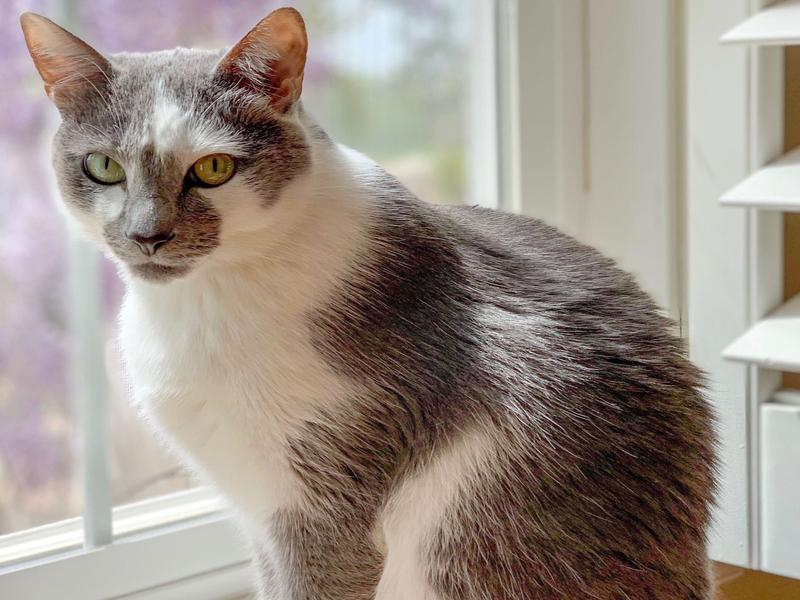cat: (16, 6, 721, 596)
